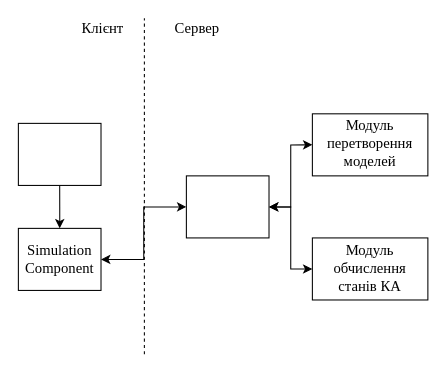
Image size: 446x374. Some labels were removed from this diagram. The box of each missing label's shape, as (x1, y1, x2, y2) in pixels:
Api Controller: (185, 175, 269, 238)
Rules Editor Component: (17, 122, 101, 185)
